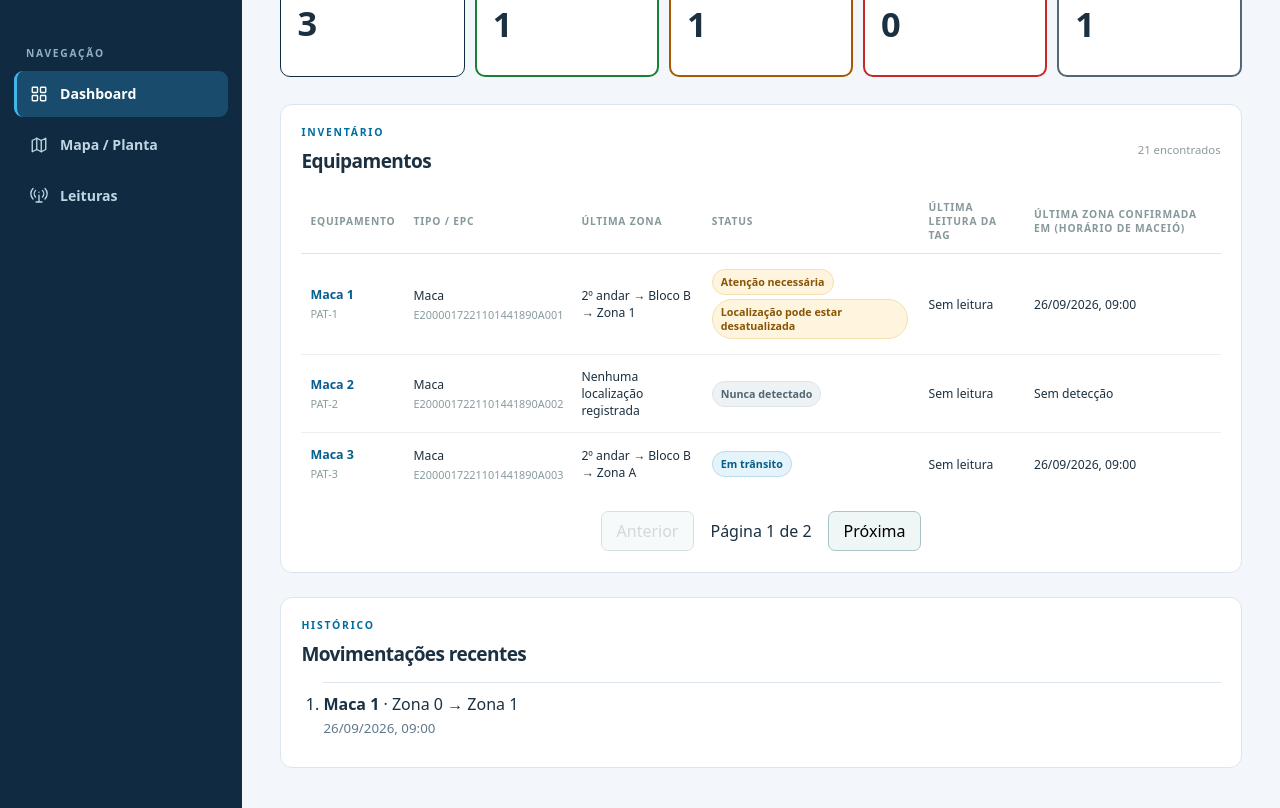
integração da busca › usa a paginação real do servidor
(page scrolled)
Expected: the table is shown, x1=301 y1=189 x2=1221 y2=495
Step 1. Click the button "Próxima" → coordinates (875, 531), box x1=828 y1=511 x2=922 y2=551
(page scrolled)
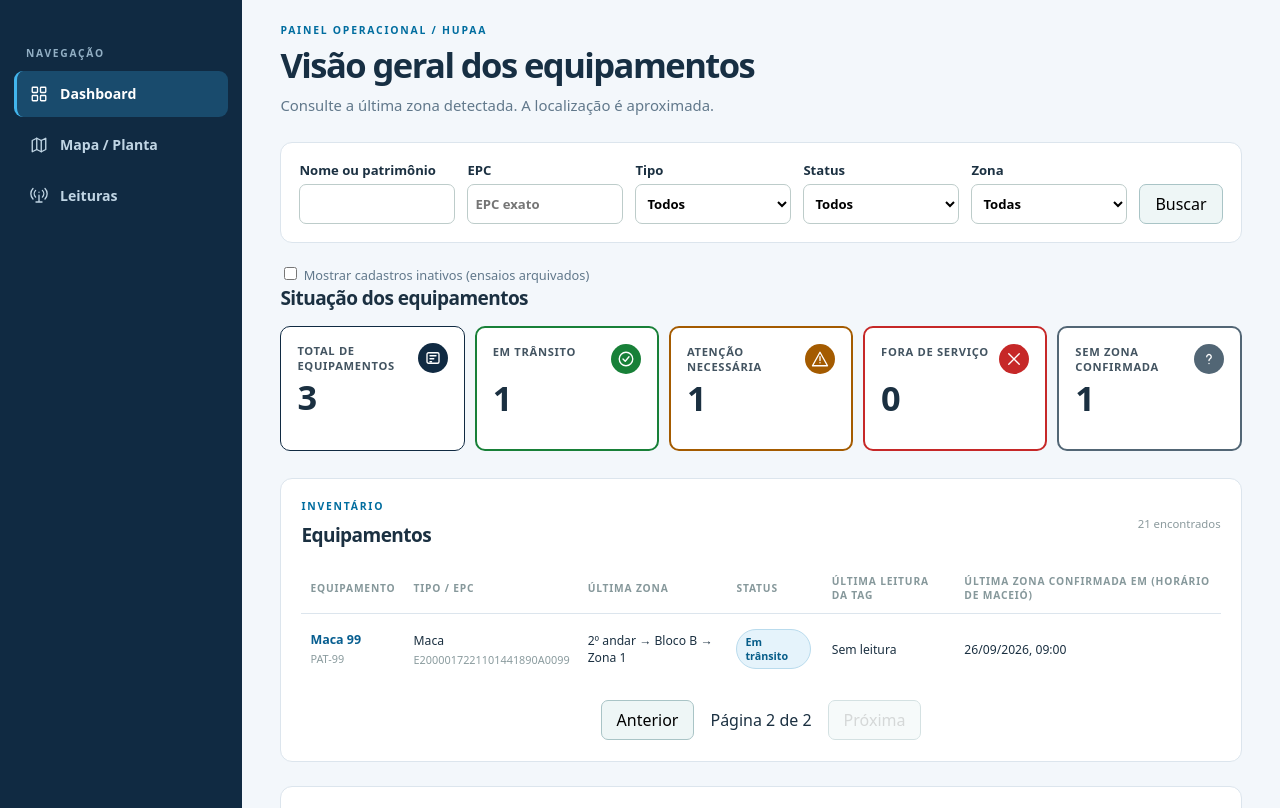
Result: the button "Maca 99 PAT-99" is shown at x1=310 y1=631 x2=361 y2=666
